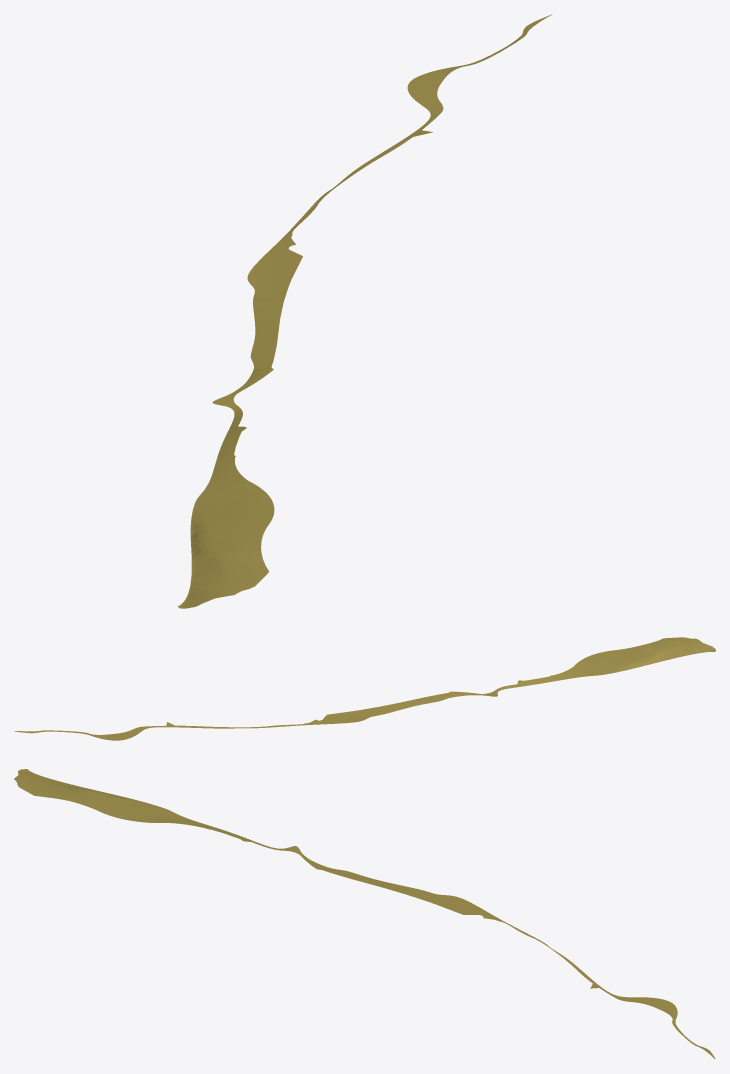
Rendered from 04_Beach_00.glb.
3 renders of one model, top to bottom at view 1: azimuth 30°, elevation 25°; view 2: azimuth 150°, elevation 25°; view 3: azimuth 270°, elevation 25°, orthographic. The views are drawn at different scales.
Parts seen in each view (by area): view 1: 04_Beach_00; view 2: 04_Beach_00; view 3: 04_Beach_00.
Part boxes in pixels (x1,y1,x2,y2): 04_Beach_00: (177, 14, 551, 608); 04_Beach_00: (14, 637, 715, 740); 04_Beach_00: (14, 769, 715, 1059).
Bounding box in the file's own units: 560 × 5.09 × 571.
